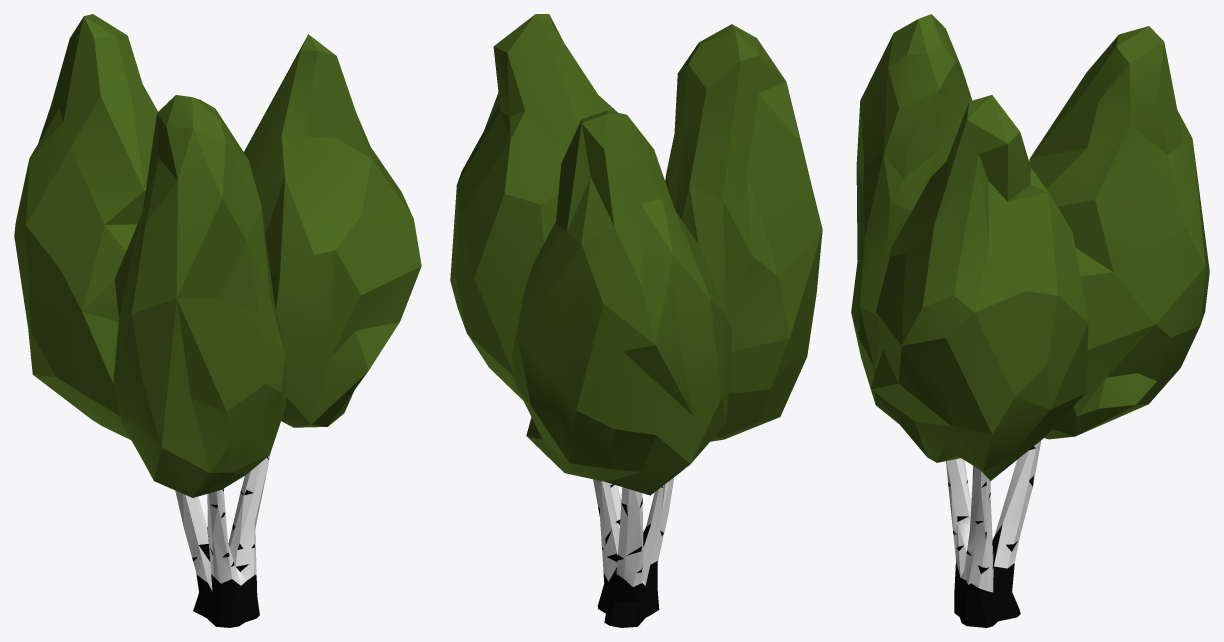
The model's file is BirchD.fbx.
3 renders of one model, left to right at view 1: azimuth 30°, elevation 25°; view 2: azimuth 150°, elevation 25°; view 3: azimuth 270°, elevation 25°, orthographic. The views are drawn at different scales.
Parts seen in each view (by area): view 1: BirchD; view 2: BirchD; view 3: BirchD.
Part boxes in pixels (x1,y1,x2,y2): BirchD: (14, 14, 421, 627); BirchD: (450, 14, 822, 627); BirchD: (851, 14, 1209, 627).
Bounding box in the file's own units: 992 × 1707 × 987.
